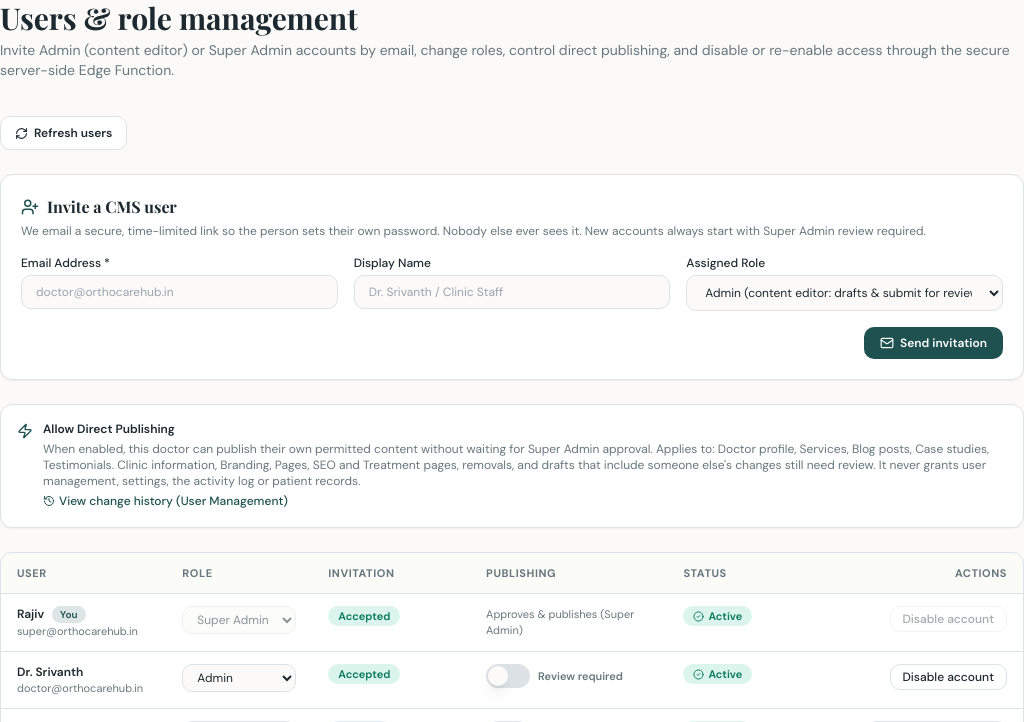
Test: Invitations › TEST 16: an email delivery failure is shown as a warning with the resend path
The width and height of the screenshot is (1024, 722).
Expected: the text "doctor@orthocarehub.in" is shown, [17, 680, 150, 696]
Step 1. Type "x@orthocarehub.in" into the field labelled "Email Address *" → (179, 292), box [21, 275, 338, 309]
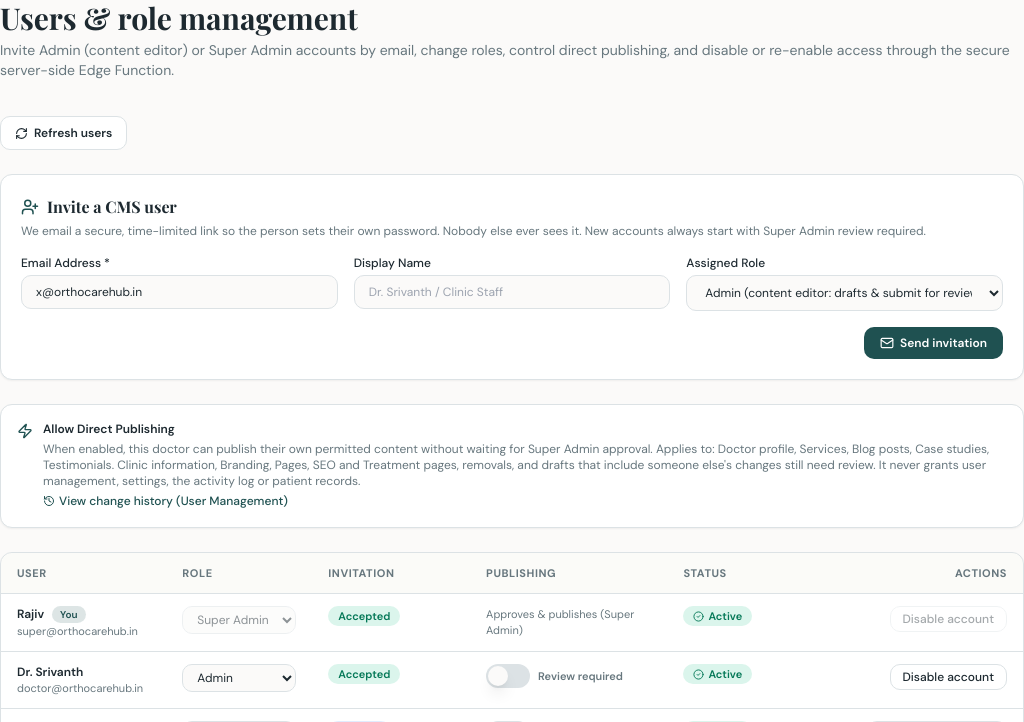
Step 2. Click the button "Send invitation" → (933, 343), box [864, 327, 1003, 359]
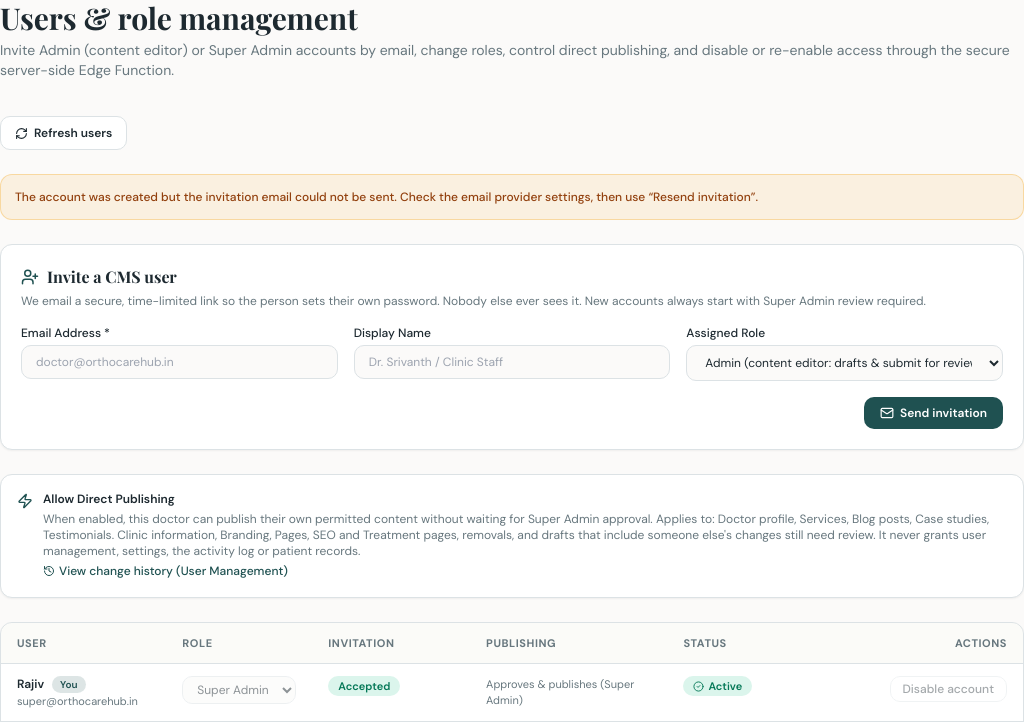
Result: the text "could not be sent" is shown at [15, 189, 758, 205]
